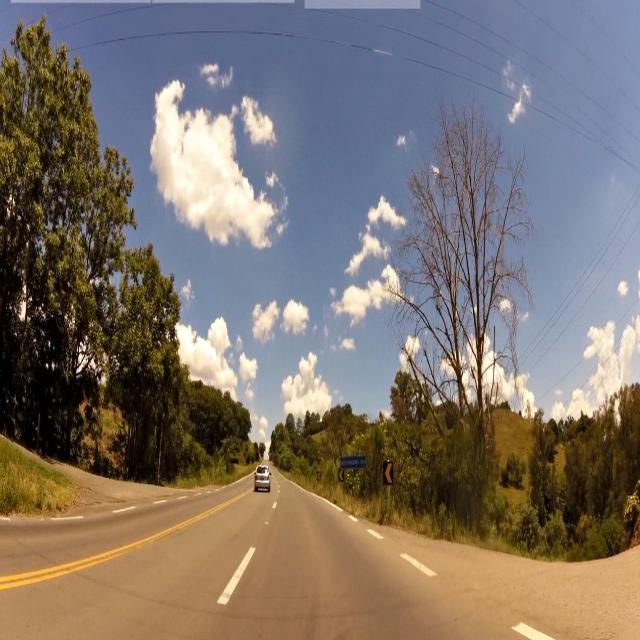Del: (384, 460, 394, 483), (338, 466, 344, 482)
E-5: (318, 471, 321, 481)
